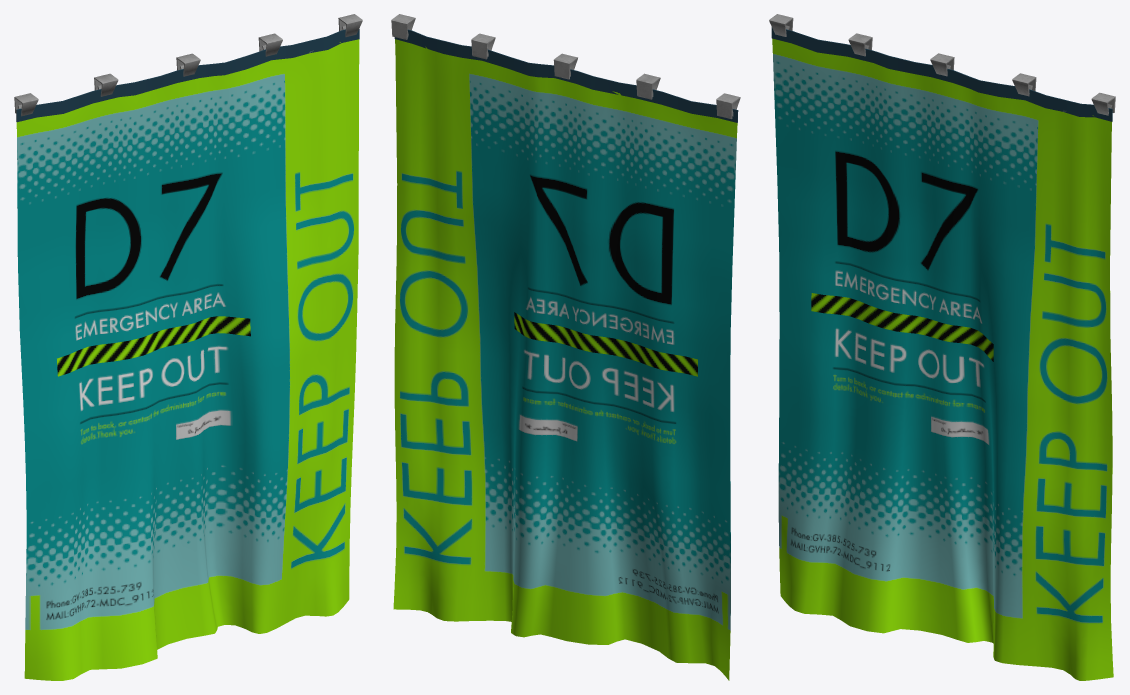
Rendered from Cartain_A_01.fbx.
The picture shows the model from 3 angles, left to right: view 1: azimuth 30°, elevation 25°; view 2: azimuth 150°, elevation 25°; view 3: azimuth 330°, elevation 25°; orthographic projection.
Visible parts, largest first — view 1: Cartain_A_01_Vinyl, Cartain_A_01; view 2: Cartain_A_01_Vinyl, Cartain_A_01; view 3: Cartain_A_01_Vinyl, Cartain_A_01.
Boxes of the visible parts, x1,y1,x2,y2 form: Cartain_A_01_Vinyl: (16,39,359,680); Cartain_A_01: (14,14,362,122); Cartain_A_01_Vinyl: (393,39,737,680); Cartain_A_01: (391,14,740,122); Cartain_A_01_Vinyl: (772,38,1113,680); Cartain_A_01: (769,14,1115,121).
Bounding box in the file's own units: 177 × 291 × 19.97.
Materials: 1 (1 with a texture image).
